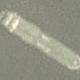ship: (0, 3, 79, 73)
